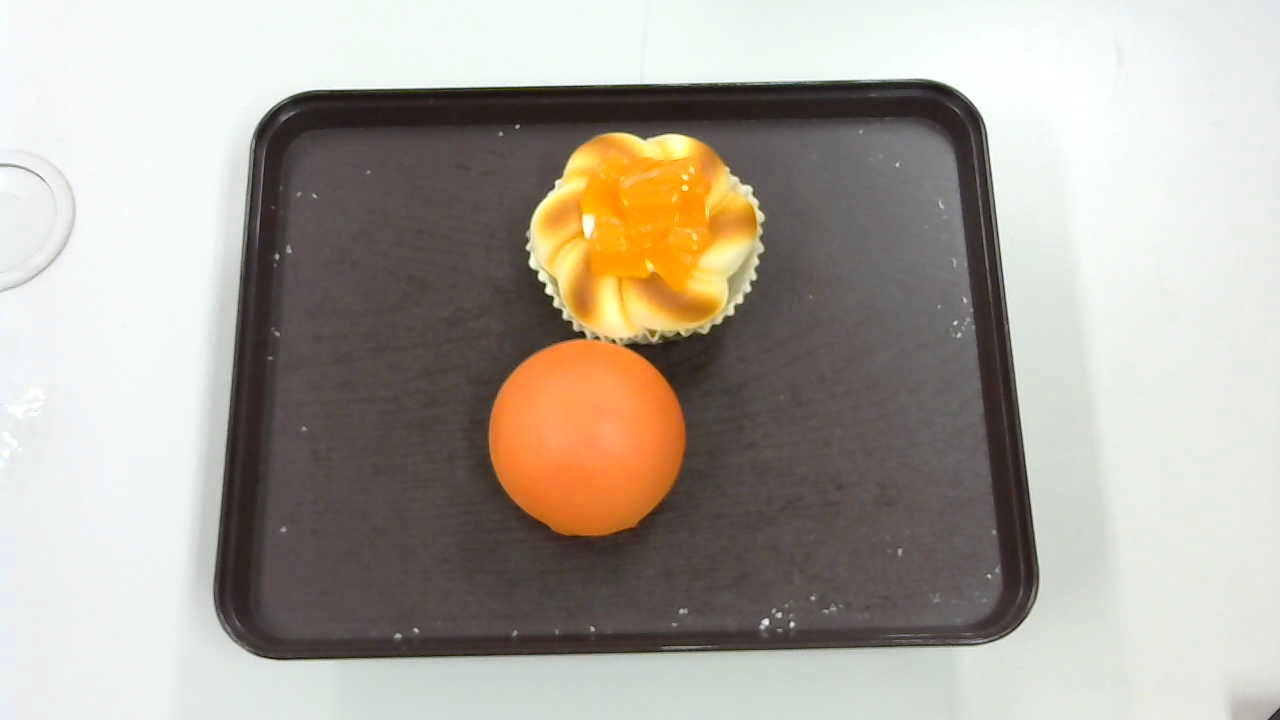bun: (489, 339, 687, 538)
mango tart: (527, 132, 765, 345)
